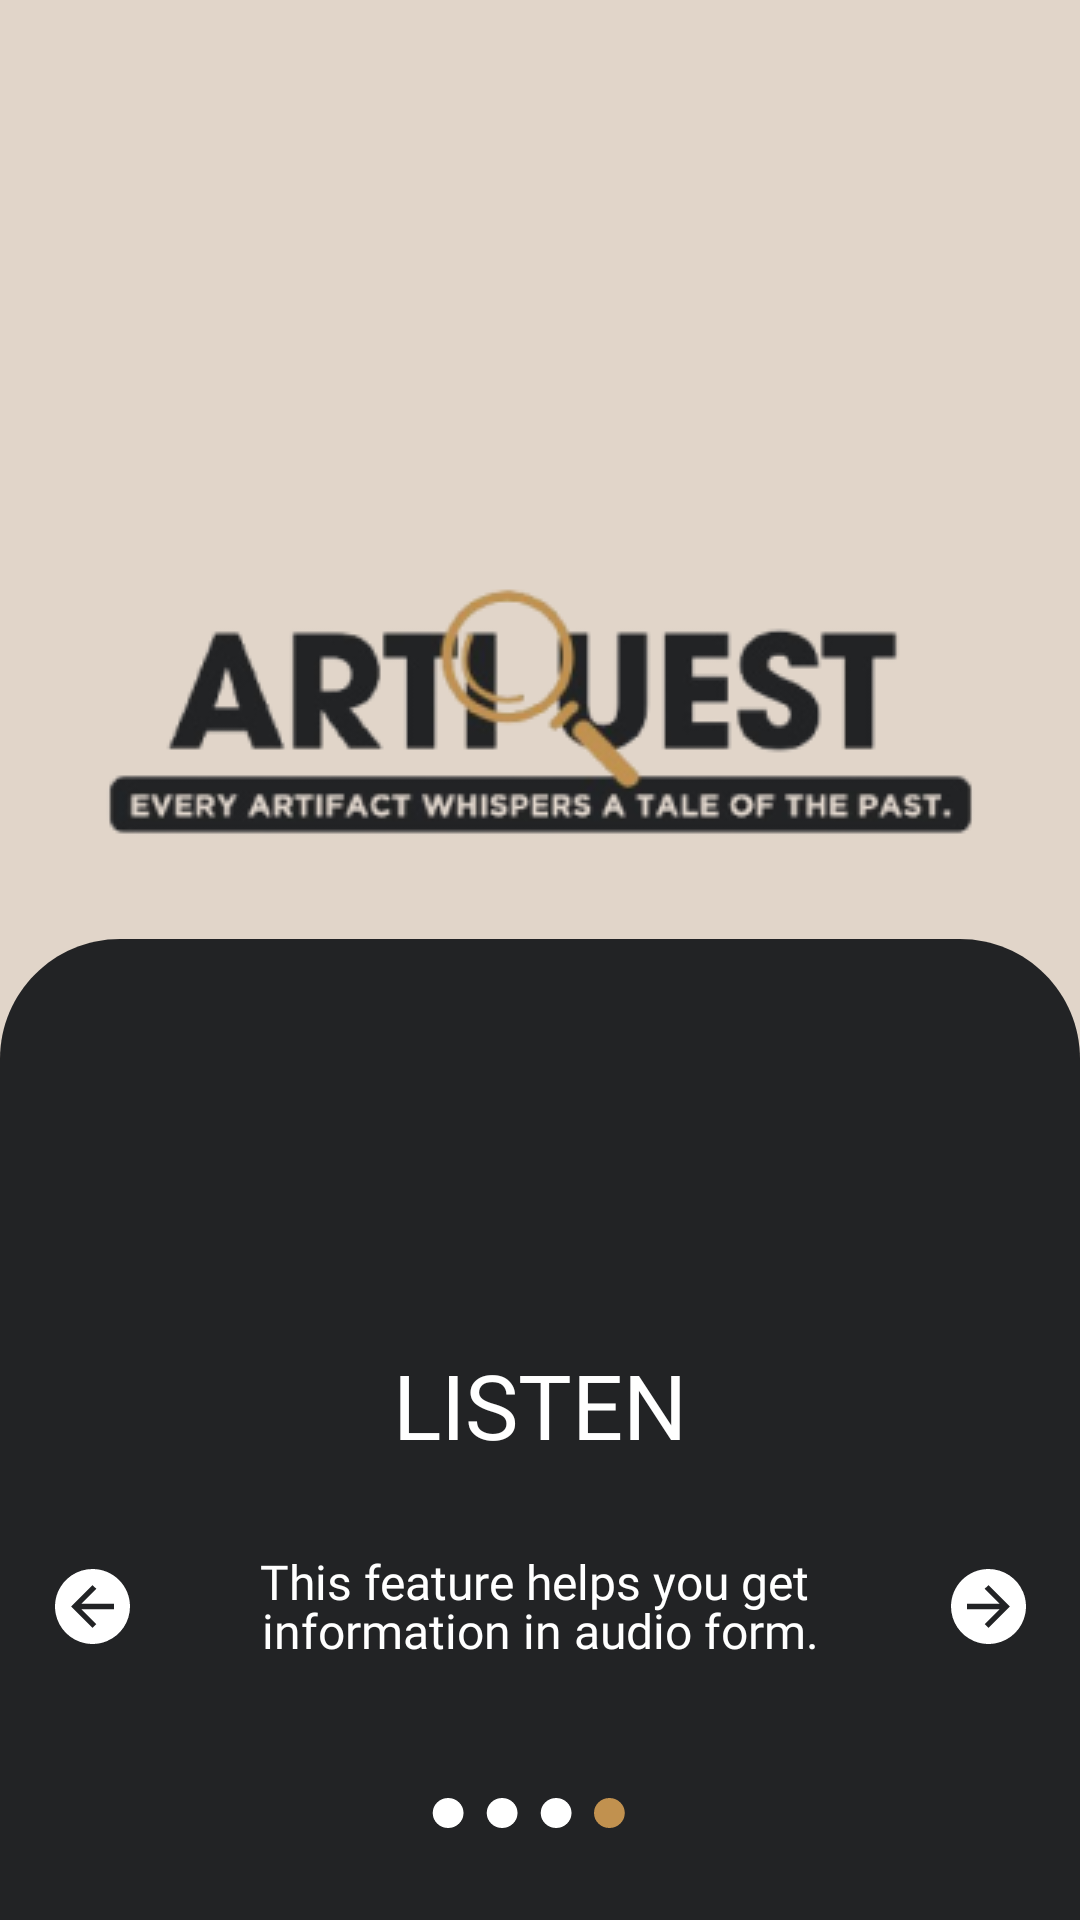

Icon bounding boxes for this 1080px×1920px phone screenshot, format (x1, y1, x2, y2):
Next Button: (951, 1569, 1026, 1644)
Previous Button: (55, 1569, 130, 1644)
